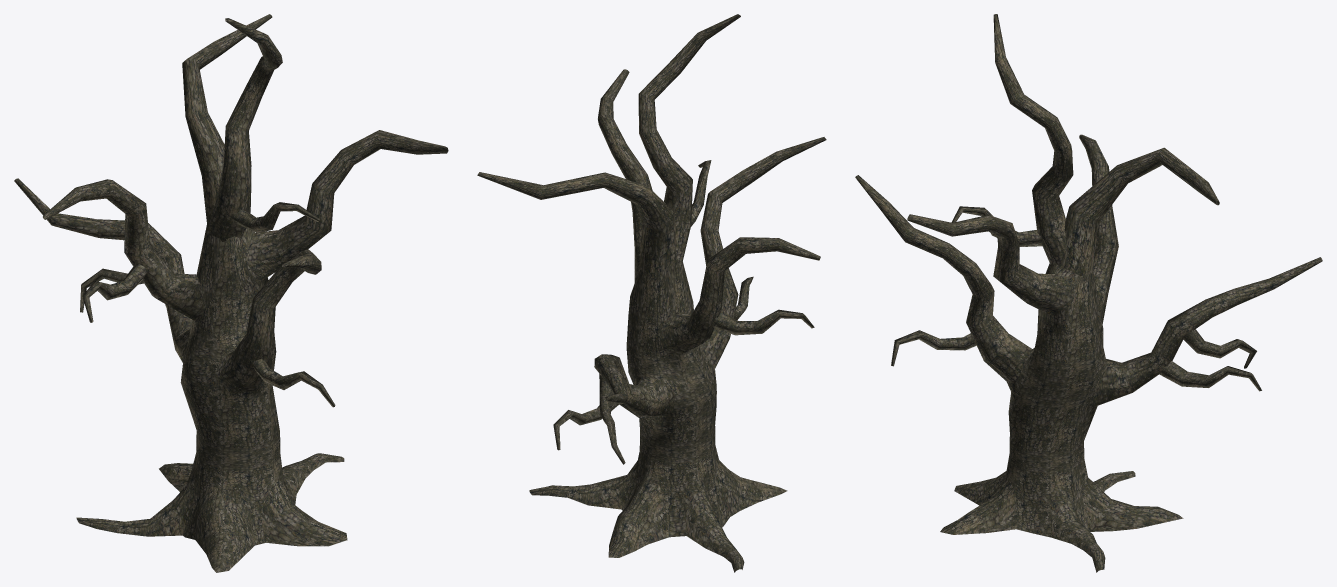
File: EKH_ENTRANCE_PS_EN_TREE003__GX.fbx
3 renders of one model, left to right at view 1: azimuth 30°, elevation 25°; view 2: azimuth 150°, elevation 25°; view 3: azimuth 270°, elevation 25°, orthographic. The views are drawn at different scales.
Parts seen in each view (by area): view 1: EKH_ENTRANCE_PS_EN_TREE003__GX; view 2: EKH_ENTRANCE_PS_EN_TREE003__GX; view 3: EKH_ENTRANCE_PS_EN_TREE003__GX.
Part boxes in pixels (x1,y1,x2,y2): EKH_ENTRANCE_PS_EN_TREE003__GX: (14,14,448,572); EKH_ENTRANCE_PS_EN_TREE003__GX: (477,14,826,572); EKH_ENTRANCE_PS_EN_TREE003__GX: (855,14,1322,572).
Bounding box in the file's own units: 183569 × 306179 × 261167.
3 materials, 3 textured.
